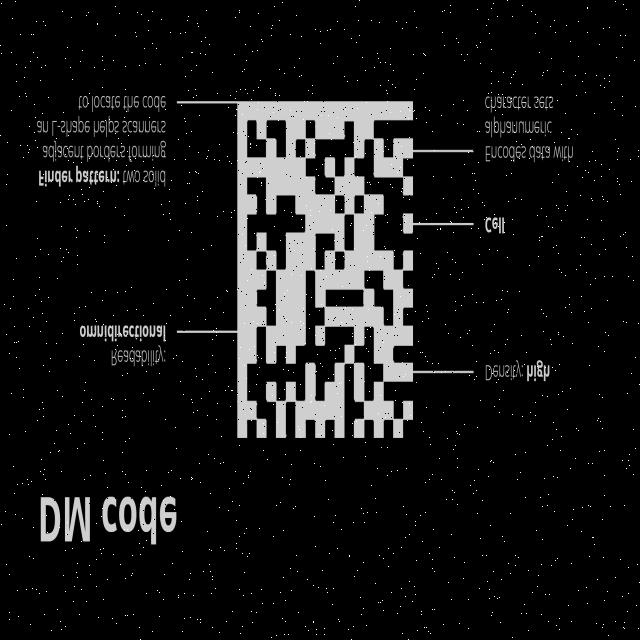datamatrix: (229, 84, 418, 450)
